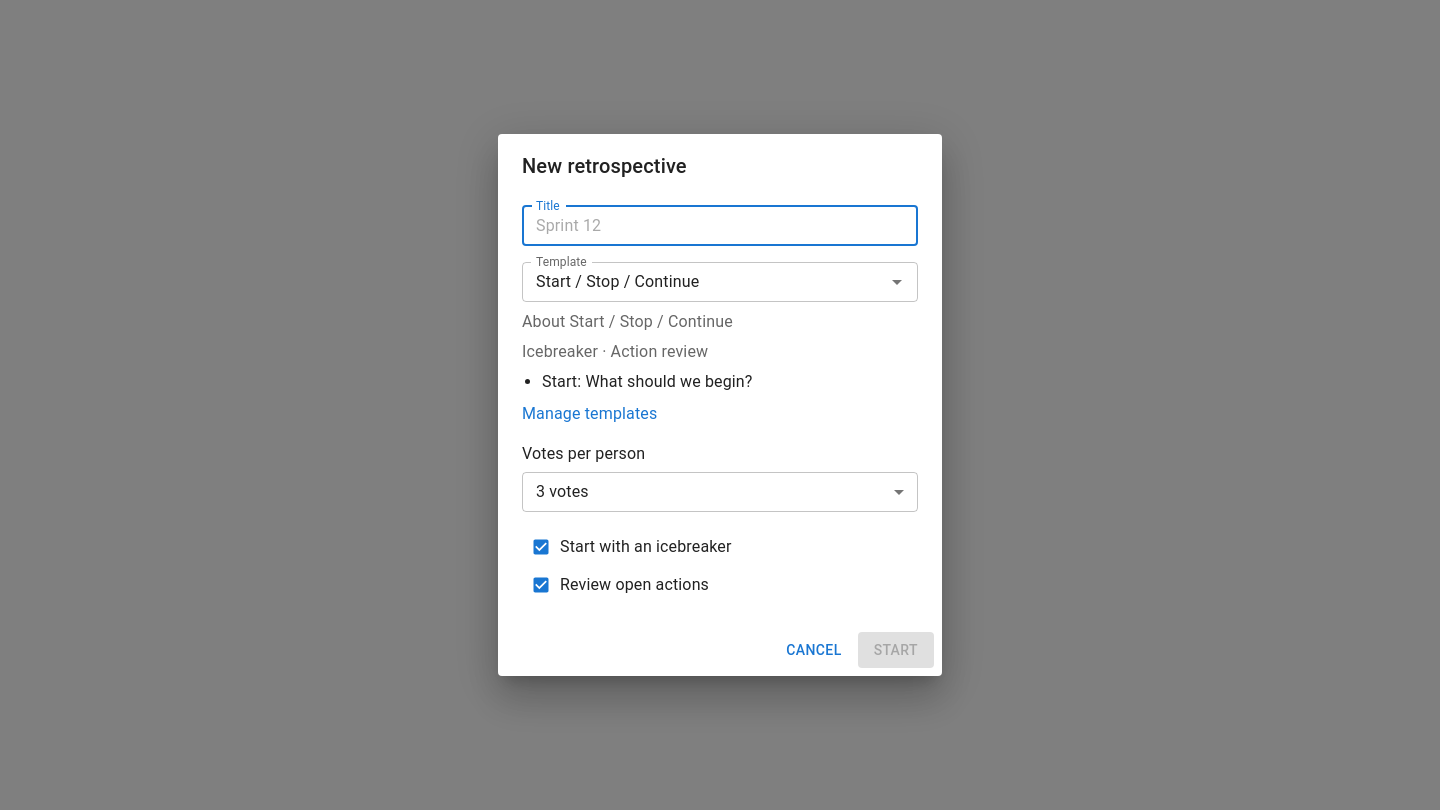
Test case: NewRetroDialog › filters the options by template name or column name
This screenshot has width=1440, height=810.
Replace the text in the dropdown labelled "Template" with "blan" at [704, 282], box [528, 268, 879, 296]
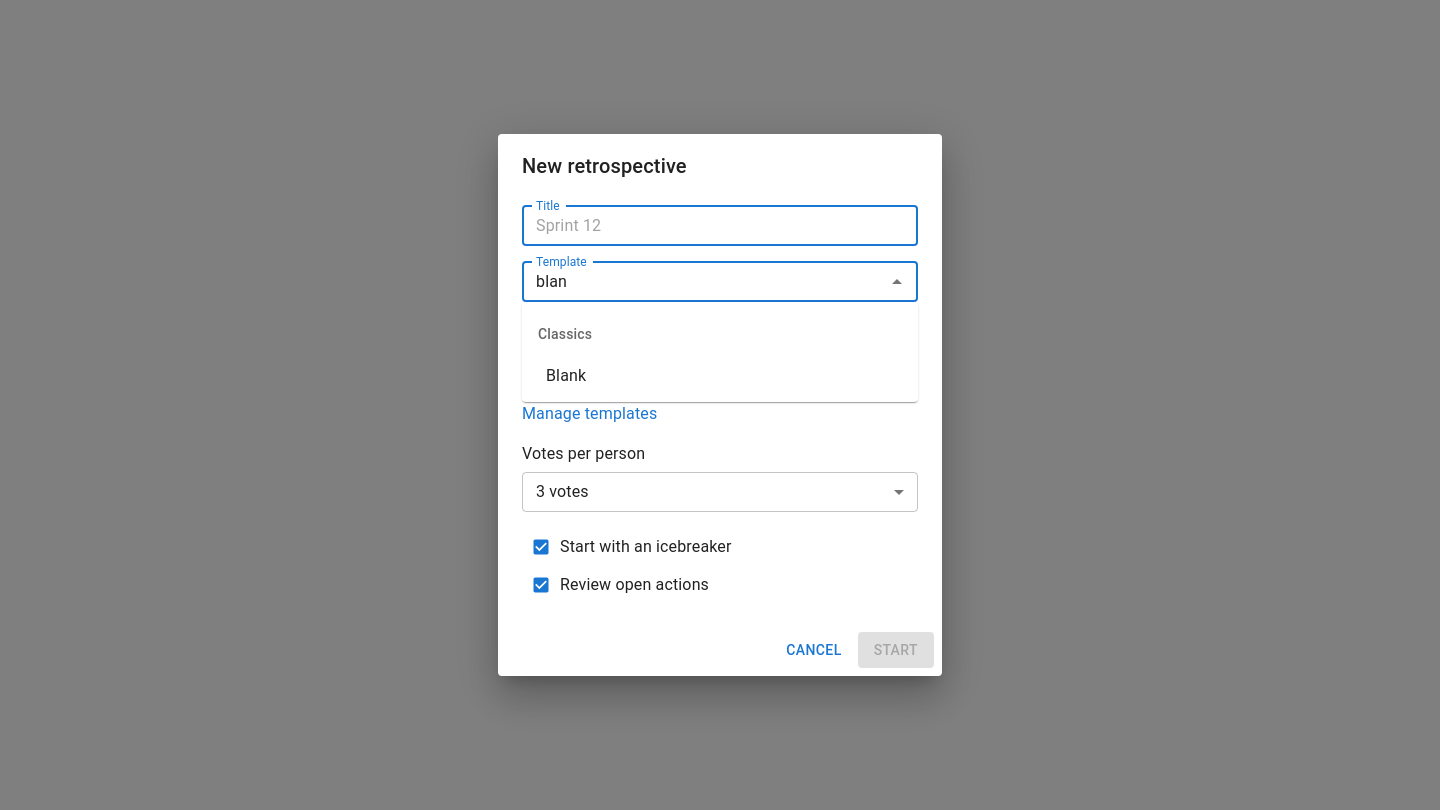
Expected: the option "Retro night" is not shown
Now the option "Blank" is shown, box [546, 366, 586, 385]
Replace the text in the dropdown labelled "Template" with "wins" at [704, 282], box [528, 268, 879, 296]
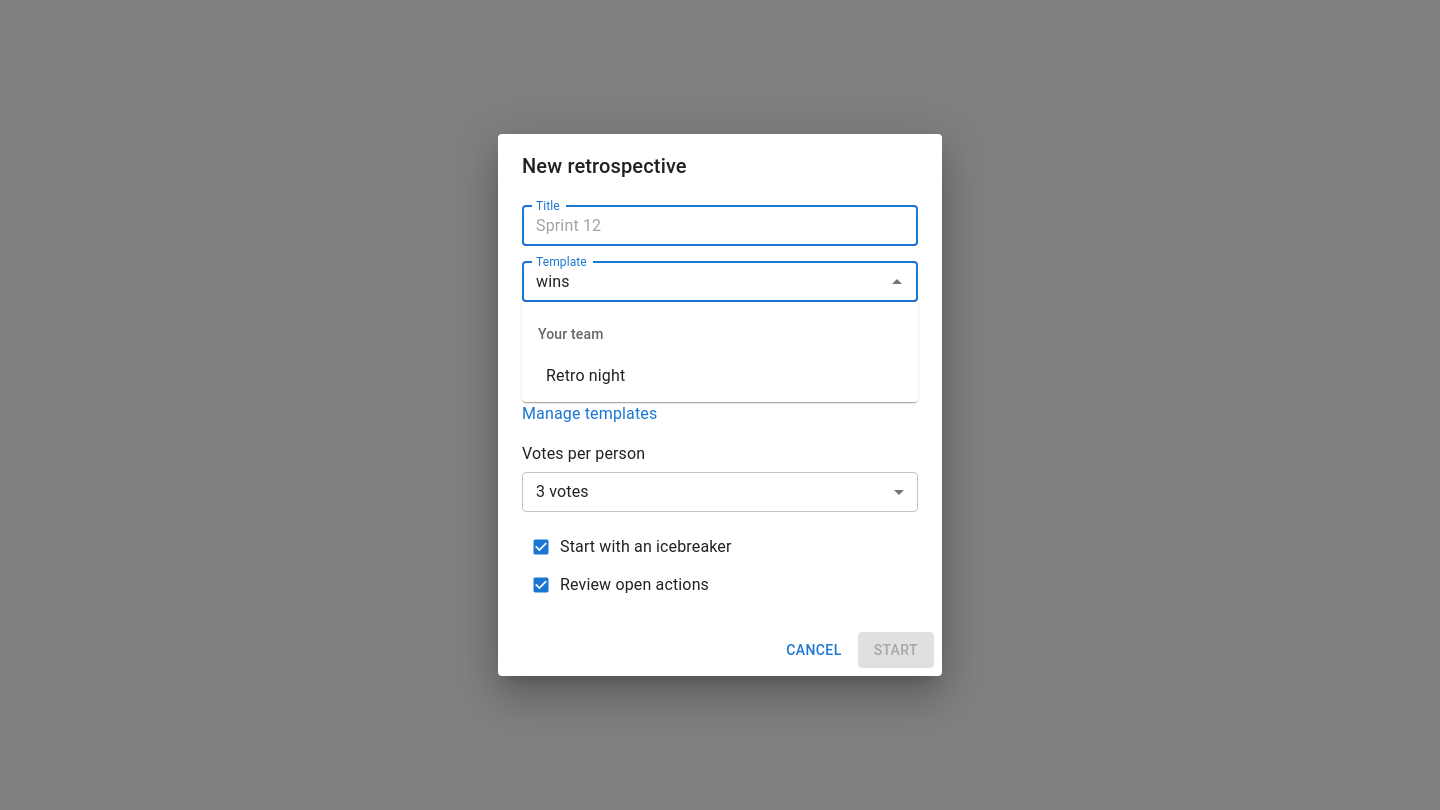
Now the option "Retro night" is shown, box [546, 366, 625, 385]
Now the option "Blank" is gone
Replace the text in the dropdown labelled "Template" with "zzz" at [704, 282], box [528, 268, 879, 296]
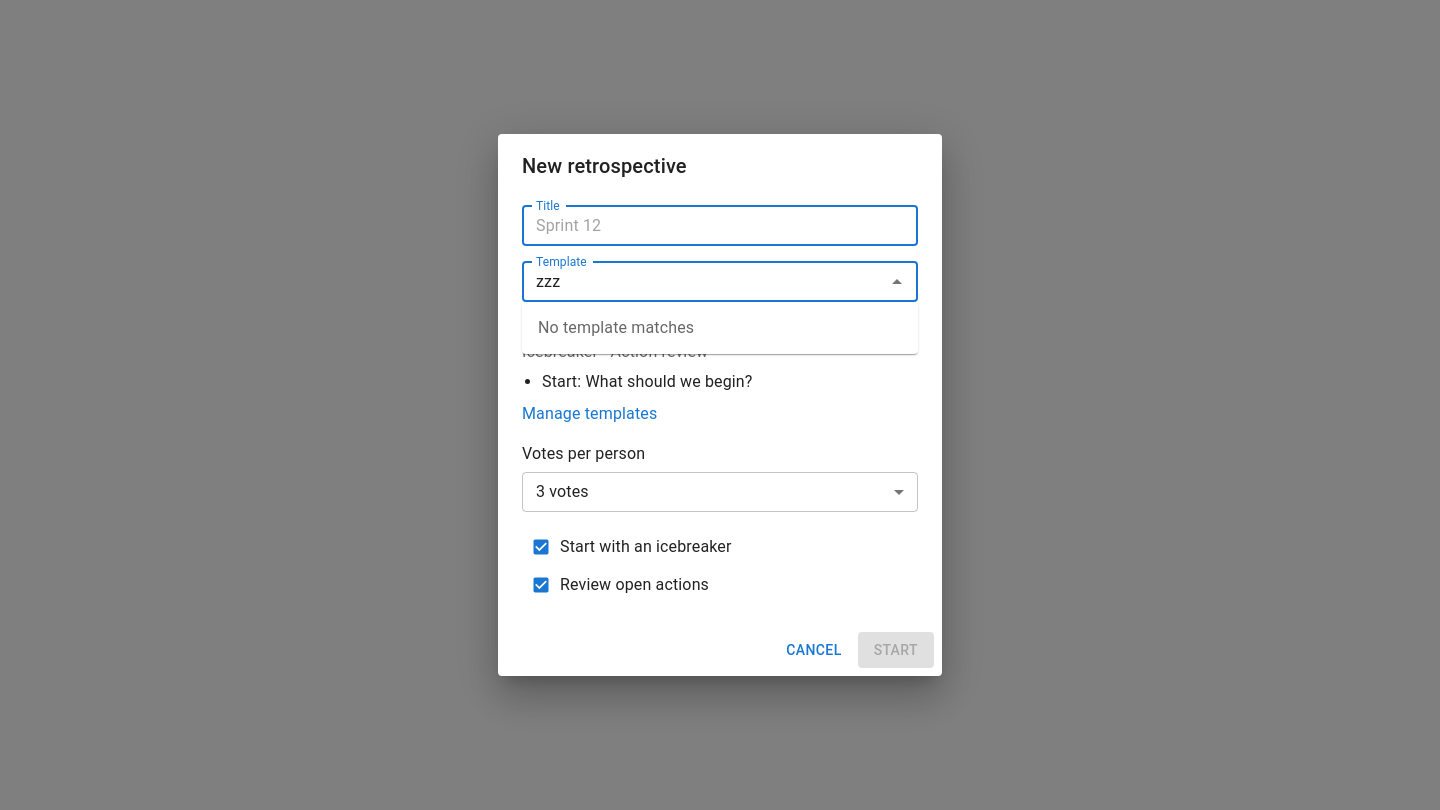
Now the text "No template matches" is shown, box [538, 318, 694, 337]
